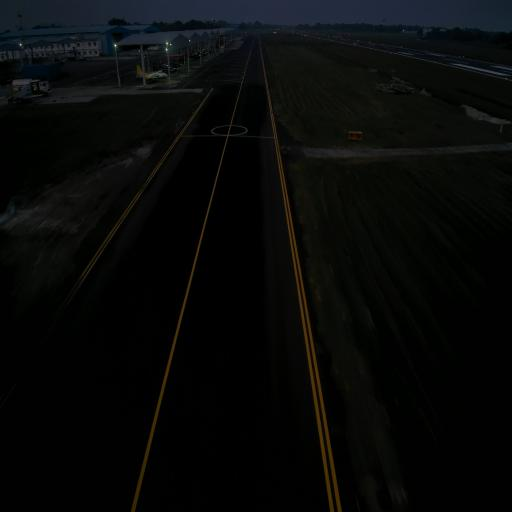on: (175, 120, 178, 128), (284, 119, 286, 126)
